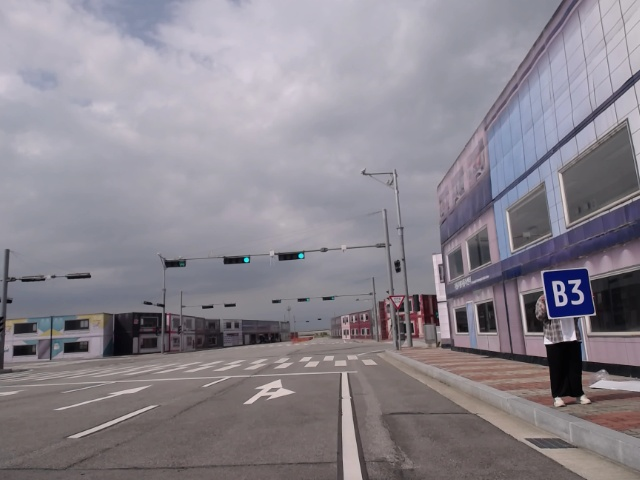delivery_b3: (542, 267, 595, 320)
straight_green_4: (220, 252, 252, 267), (276, 249, 305, 263), (321, 295, 337, 301), (297, 297, 311, 302)
